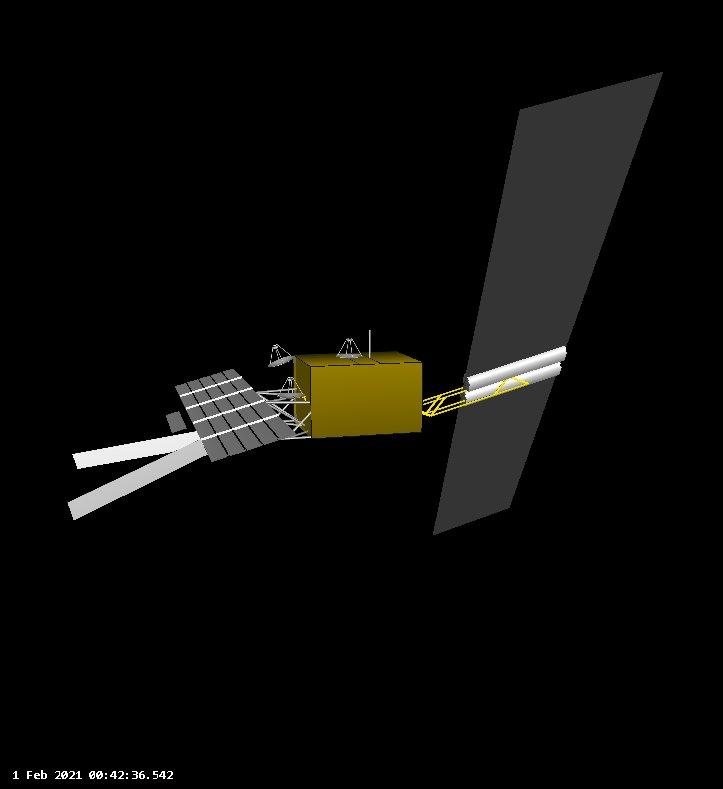antenna: (266, 342, 295, 373), (333, 334, 366, 361), (276, 374, 306, 403)
body: (291, 347, 427, 442)
solar: (461, 69, 667, 392), (431, 361, 564, 538), (172, 367, 299, 467)
